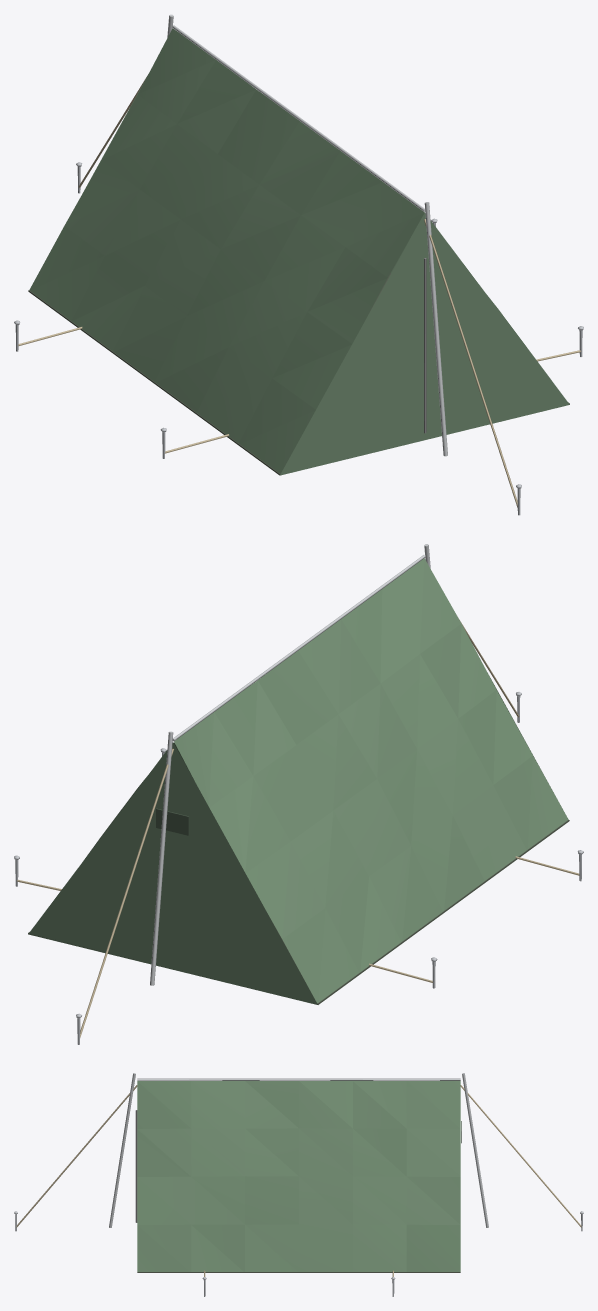
The model's file is camp_tent_a.glb.
The picture shows the model from 3 angles, top to bottom: view 1: azimuth 30°, elevation 25°; view 2: azimuth 150°, elevation 25°; view 3: azimuth 270°, elevation 25°; orthographic projection. The views are drawn at different scales.
Parts seen in each view (by area): view 1: body; view 2: body; view 3: body.
Boxes of the visible parts, box(x1,y1,x2,y2) form: body: box(14, 14, 583, 515); body: box(14, 544, 583, 1044); body: box(14, 1073, 583, 1296).
Size of what is drawn, in the model's own units: 2.33 by 1.29 by 4.23.
